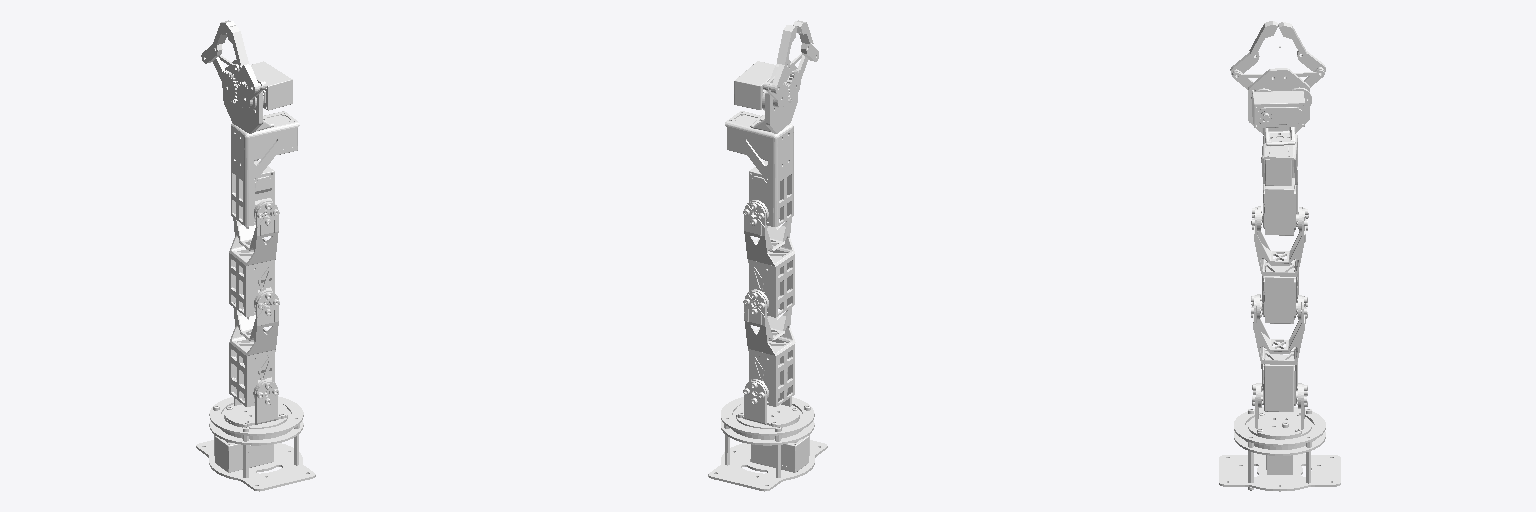
The robot description file, URDF, robot "arm":
<?xml version="1.0" encoding="utf-8"?>
<robot
  name="arm">
  
  <link
    name="arm_base_link">
    <visual>
      <origin
        xyz="0 0 0"
        rpy="0 0 0" />
      <geometry>
        <mesh
          filename="package://arm/meshes/arm_base_link.STL" />
      </geometry>
      <material
        name="">
        <color
          rgba="1 1 1 1" />
      </material>
    </visual>
    <collision>
      <origin
        xyz="0 0 0"
        rpy="0 0 0" />
      <geometry>
        <mesh
          filename="package://arm/meshes/arm_base_link.STL" />
      </geometry>
    </collision>
  </link>
  
  <link
    name="link1">
    <visual>
      <origin
        xyz="0 0 0"
        rpy="0 0 0" />
      <geometry>
        <mesh
          filename="package://arm/meshes/link1.STL" />
      </geometry>
      <material
        name="">
        <color
          rgba="1 1 1 1" />
      </material>
    </visual>
    <collision>
      <origin
        xyz="0 0 0"
        rpy="0 0 0" />
      <geometry>
        <mesh
          filename="package://arm/meshes/link1.STL" />
      </geometry>
    </collision>
  </link>
  
  <joint
    name="joint1"
    type="revolute">
    <origin
      xyz="0.0 0.0 0.0299002629097897"
      rpy="0 0 0" />
    <parent
      link="arm_base_link" />
    <child
      link="link1" />
    <axis
      xyz="0 0 1" />
    <limit
      lower="-2.3562"
      upper="2.3562"
      effort="0"
      velocity="0" />
  </joint>
  
  
  <link
    name="link2">
    <visual>
      <origin
        xyz="0 0 0"
        rpy="0 1.5707963267949 0" />
      <geometry>
        <mesh
          filename="package://arm/meshes/link2.STL" />
      </geometry>
      <material
        name="">
        <color
          rgba="1 1 1 1" />
      </material>
    </visual>
    <collision>
      <origin
        xyz="0 0 0"
        rpy="0 1.5707963267949 0" />
      <geometry>
        <mesh
          filename="package://arm/meshes/link2.STL" />
      </geometry>
    </collision>
  </link>
  
  <joint
    name="joint2"
    type="revolute">
    <origin
      xyz="0 0 0.0410291996947492"
      rpy="0 0 0" />
    <parent
      link="link1" />
    <child
      link="link2" />
    <axis
      xyz="0 -1 0" />
    <limit
      lower="-1.5708"
      upper="1.5708"
      effort="0"
      velocity="0" />
  </joint>
  
  
  <link
    name="link3">
    <visual>
      <origin
        xyz="0 0 0"
        rpy="0 1.5707963267949 0" />
      <geometry>
        <mesh
          filename="package://arm/meshes/link3.STL" />
      </geometry>
      <material
        name="">
        <color
          rgba="1 1 1 1" />
      </material>
    </visual>
    <collision>
      <origin
        xyz="0 0 0"
        rpy="0 1.5707963267949 0" />
      <geometry>
        <mesh
          filename="package://arm/meshes/link3.STL" />
      </geometry>
    </collision>
  </link>
  
  <joint
    name="joint3"
    type="revolute">
    <origin
      xyz="0.0 0 0.084119"
      rpy="0 0 0" />
    <parent
      link="link2" />
    <child
      link="link3" />
    <axis
      xyz="0 -1 0" />
    <limit
      lower="-1.5708"
      upper="1.5708"
      effort="0"
      velocity="0" />
  </joint>
  
  
  <link
    name="link4">
    <visual>
      <origin
        xyz="0 0 0"
        rpy="0 1.5707963267949 0" />
      <geometry>
        <mesh
          filename="package://arm/meshes/link4.STL" />
      </geometry>
      <material
        name="">
        <color
          rgba="1 1 1 1" />
      </material>
    </visual>
    <collision>
      <origin
        xyz="0 0 0"
        rpy="0 1.5707963267949 0" />
      <geometry>
        <mesh
          filename="package://arm/meshes/link4.STL" />
      </geometry>
    </collision>
  </link>
  
  <joint
    name="joint4"
    type="revolute">
    <origin
      xyz="0 0 0.084119"
      rpy="0 0 0" />
    <parent
      link="link3" />
    <child
      link="link4" />
    <axis
      xyz="0 -1 0" />
    <limit
      lower="-1.5708"
      upper="1.5708"
      effort="0"
      velocity="0" />
  </joint>
  
  
  <link
    name="link5">
    <visual>
      <origin
        xyz="0 0 0"
        rpy="0 1.5707963267949 0" />
      <geometry>
        <mesh
          filename="package://arm/meshes/link5.STL" />
      </geometry>
      <material
        name="">
        <color
          rgba="1 1 1 1" />
      </material>
    </visual>
    <collision>
      <origin
        xyz="0 0 0"
        rpy="0 1.5707963267949 0" />
      <geometry>
        <mesh
          filename="package://arm/meshes/link5.STL" />
      </geometry>
    </collision>
  </link>
  
  <joint
    name="joint5"
    type="revolute">
    <origin
      xyz="0 0 0.077374"
      rpy="0 -1.5707963267949 0" />
    <parent
      link="link4" />
    <child
      link="link5" />
    <axis
      xyz="1 0 0" />
    <limit
      lower="-2.3562"
      upper="2.3562"
      effort="0"
      velocity="0" />
  </joint>
  
  <link 
    name="claw_link">
    <visual>
      <geometry>
        <box 
          size="0.001 0.001 0.001"/>
      </geometry>
      <origin 
        rpy="0 0 0" 
        xyz="0 0 0"/>
      <material
        name="">
        <color
          rgba="1 1 1 1" />
      </material>
    </visual>
  </link>

  <joint 
    name="joint6" 
    type="revolute">
    <parent 
      link="link5"/> 
    <child 
      link="claw_link"/>
    <origin
      xyz="0.08 0 0.015"
      rpy="0 0 0" />
    <axis 
      xyz="1 0 0"/> 
    <limit 
      lower="0" 
      upper="0" 
      effort="0" 
      velocity="0"/>
  </joint>


</robot>

--- Render facts (derived) ---
Views: 3 orthographic renders of the robot side by side, from view 1: azimuth 30°, elevation 25°; view 2: azimuth 150°, elevation 25°; view 3: azimuth 270°, elevation 25°.
Robot: arm — 7 links, 6 joints (6 revolute); root link arm_base_link; default pose: all joints at 0.
Visible links, largest first — view 1: arm_base_link, link5, link4, link3, link2, link1; view 2: arm_base_link, link4, link5, link2, link3, link1; view 3: arm_base_link, link5, link3, link2, link4, link1.
Boxes of the visible links, left/top/right/bottom form: arm_base_link: left=196, top=396, right=315, bottom=491; link5: left=201, top=20, right=292, bottom=133; link4: left=231, top=111, right=299, bottom=226; link3: left=229, top=200, right=279, bottom=316; link2: left=229, top=290, right=279, bottom=406; link1: left=224, top=379, right=287, bottom=428; arm_base_link: left=708, top=397, right=827, bottom=491; link4: left=725, top=111, right=793, bottom=226; link5: left=734, top=20, right=818, bottom=133; link2: left=743, top=289, right=795, bottom=406; link3: left=743, top=200, right=794, bottom=317; link1: left=736, top=379, right=799, bottom=428; arm_base_link: left=1219, top=407, right=1340, bottom=491; link5: left=1230, top=21, right=1325, bottom=145; link3: left=1251, top=206, right=1308, bottom=323; link2: left=1251, top=294, right=1307, bottom=411; link4: left=1261, top=134, right=1297, bottom=235; link1: left=1248, top=383, right=1311, bottom=439.
Bounding box of the posed robot: 0.0805 × 0.106 × 0.4215 m (x, y, z).
6 mesh visuals loaded from 6 distinct referenced files (6 binary STL).